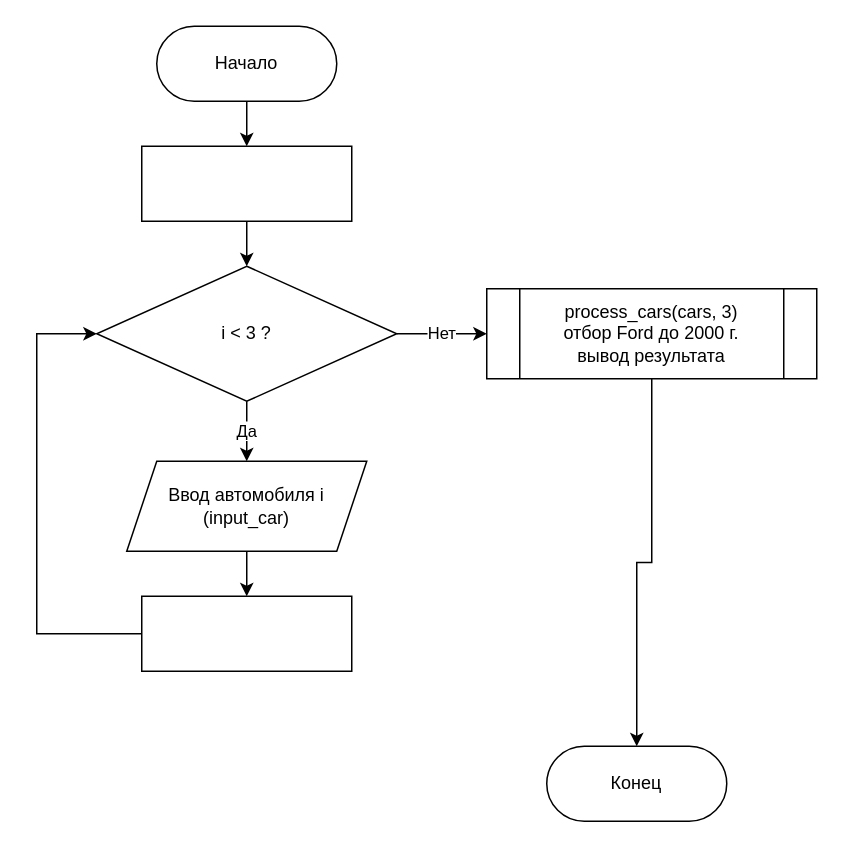
The diagram is 843 pixels wide and 848 high, and some of its shapes have lost their labels. The shapes that lost their labels are listed below. From the top down, each one's box as (x1, y1, x2, y2) in pixels, then its label:
(140, 145, 352, 221): i = 0
(140, 595, 352, 671): i = i + 1
